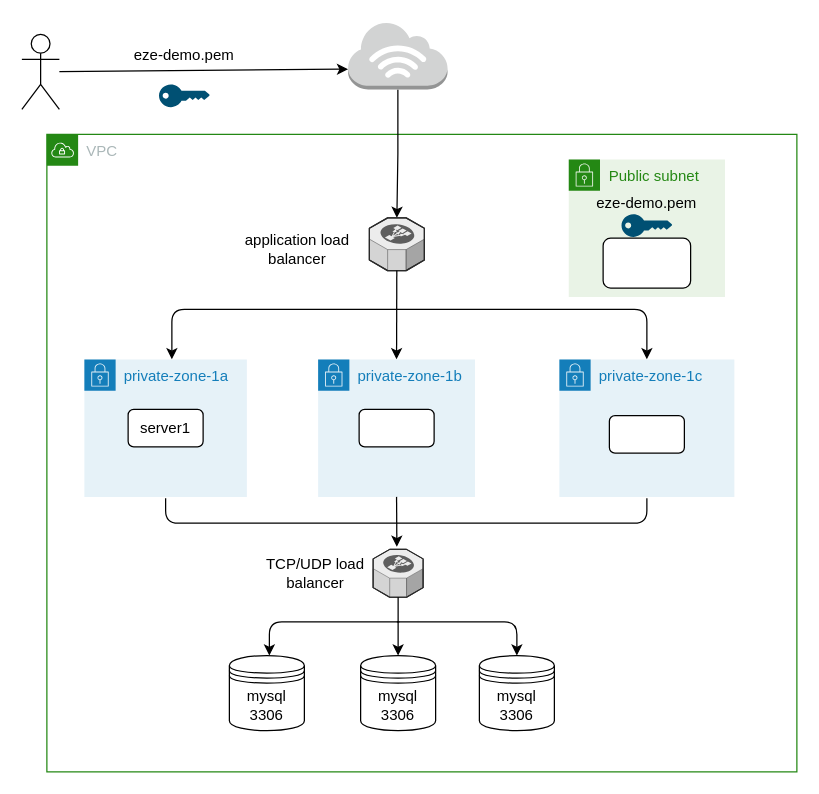
Image size: 819x794. Some labels were removed from this diagram. The centre of each missing label's shape, as x and y in pixels:
Actor: pixel 40 71
public server: pixel 646 262
server2: pixel 396 427
server3: pixel 646 433
